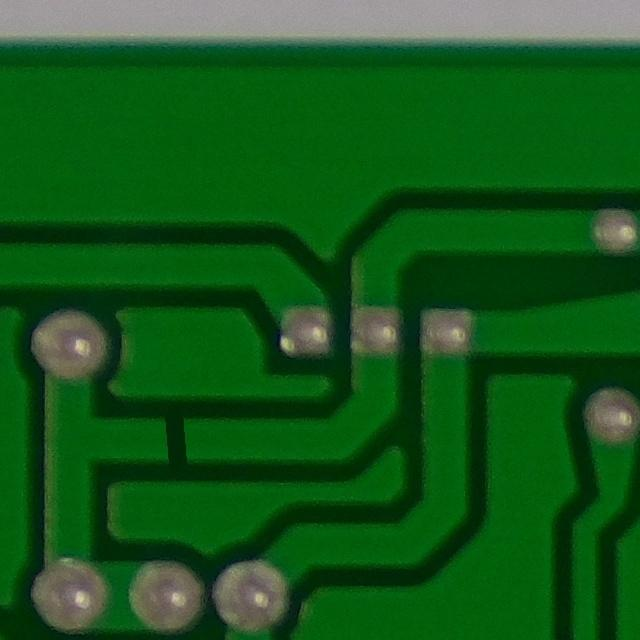open_circuit: (149, 403, 202, 476)
